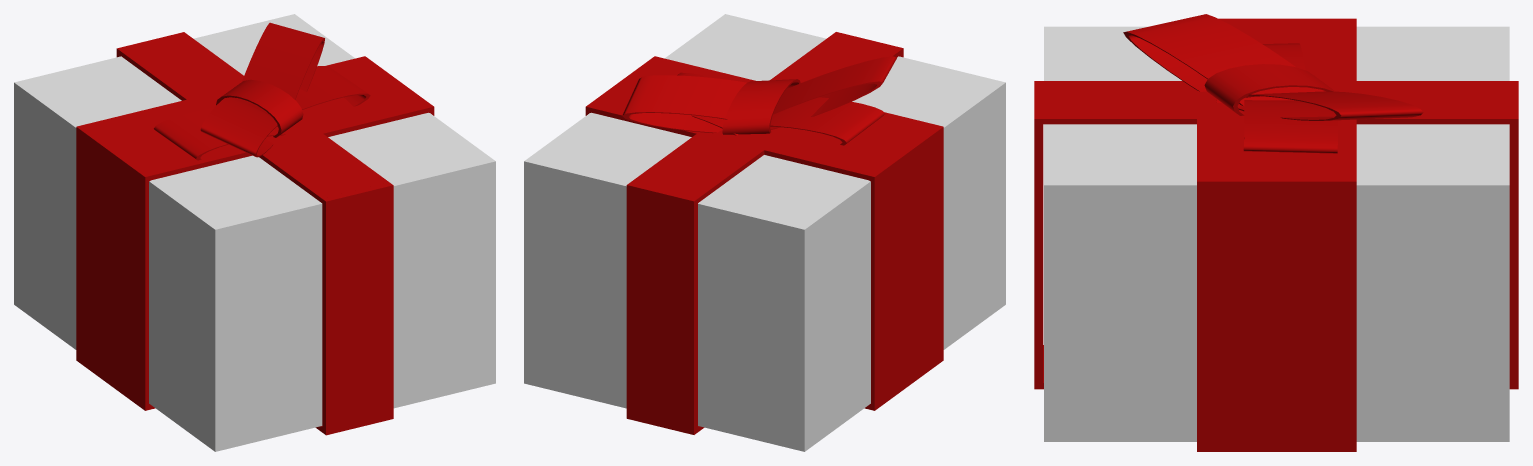
File: present5.fbx
The picture shows the model from 3 angles, left to right: view 1: azimuth 30°, elevation 25°; view 2: azimuth 150°, elevation 25°; view 3: azimuth 270°, elevation 25°; orthographic projection. The views are drawn at different scales.
Visible parts, largest first — view 1: pCube1, pCube3, pCube2, pPipe2 (×2), pPipe1 (×2), pPipe3; view 2: pCube1, pCube3, pCube2, pPipe2 (×2), pPipe1, pPipe3; view 3: pCube1, pCube3, pCube2, pPipe2 (×2), pPipe1 (×2), pPipe3.
Boxes of the visible parts, bbox=[...] form: pCube1: bbox=[14, 14, 495, 451]; pCube3: bbox=[76, 56, 434, 410]; pCube2: bbox=[116, 32, 393, 435]; pPipe2 (×2): bbox=[200, 22, 324, 157]; pPipe1 (×2): bbox=[154, 66, 370, 160]; pPipe3: bbox=[216, 79, 303, 137]; pCube1: bbox=[524, 14, 1005, 451]; pCube3: bbox=[585, 56, 943, 410]; pCube2: bbox=[626, 32, 903, 434]; pPipe2 (×2): bbox=[622, 56, 896, 133]; pPipe1: bbox=[770, 97, 885, 145]; pPipe3: bbox=[722, 79, 800, 134]; pCube1: bbox=[1044, 26, 1509, 441]; pCube3: bbox=[1197, 18, 1356, 451]; pCube2: bbox=[1034, 81, 1518, 389]; pPipe2 (×2): bbox=[1123, 14, 1423, 120]; pPipe1 (×2): bbox=[1216, 43, 1337, 153]; pPipe3: bbox=[1204, 64, 1334, 115].
Size of the model in its own units: 1.05 by 0.9385 by 1.32.
